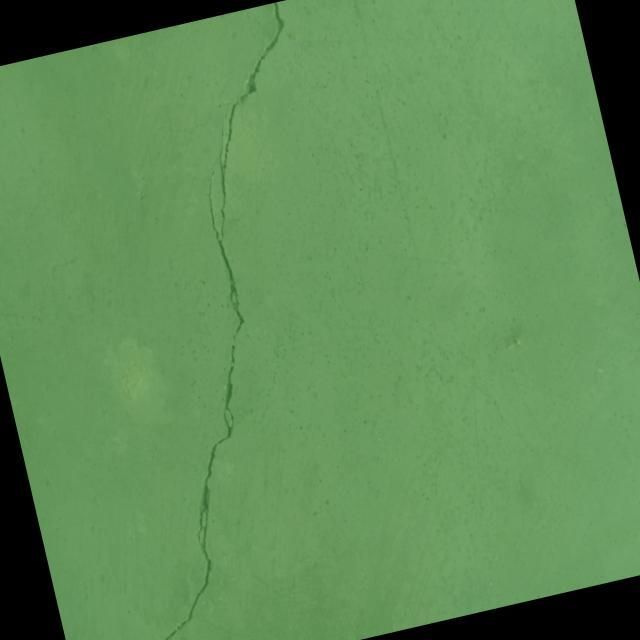crack: (18, 1, 424, 640), (199, 603, 274, 640)
